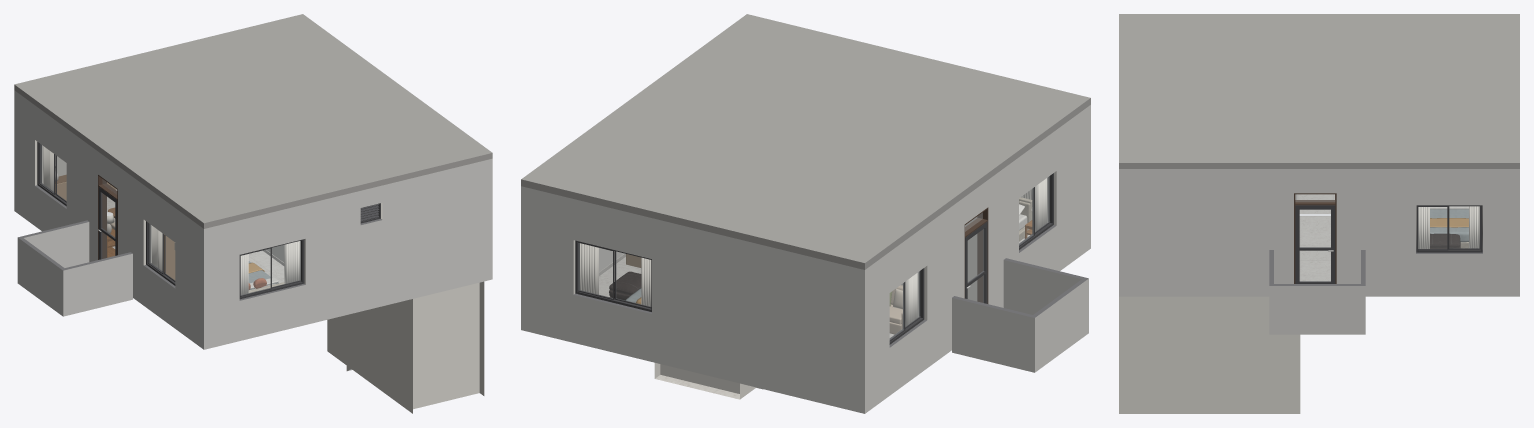
Rendered from second_floor.glb.
The picture shows the model from 3 angles, left to right: view 1: azimuth 30°, elevation 25°; view 2: azimuth 150°, elevation 25°; view 3: azimuth 270°, elevation 25°; orthographic projection. The views are drawn at different scales.
Parts seen in each view (by area): view 1: SLAB__CEILING, WALL__E03, WALL__E04, WALL__STAIRSHAFT, PARAPET__B01, SLAB__FLOOR, LEAF__D01, W03__GlassPane.002, W03__GlassPane.003, WALL__E01, FRAME__D01, FLOOR__R02 (+4 smaller); view 2: SLAB__CEILING, WALL__E01, WALL__E04, PARAPET__B01, SLAB__FLOOR, W04__GlassPane.003, LEAF__D01, W04__GlassPane.002, WALL__STAIRSHAFT, FRAME__D01, WALL__E03, BALCONY__B01 (+7 smaller); view 3: SLAB__CEILING, WALL__E02, WALL__STAIRSHAFT, PARAPET__B02, LEAF__D06, SLAB__FLOOR, FLOOR__R04, W05__GlassPane, WALL__E01, WALL__E03, W05__GlassPane.001, STAIR__UPPER_FLIGHT (+6 smaller).
Boxes of the visible parts, x1,y1,x2,y2 form: SLAB__CEILING: (14, 14, 492, 228); WALL__E03: (199, 158, 492, 343); WALL__E04: (19, 94, 199, 340); WALL__STAIRSHAFT: (327, 281, 484, 413); PARAPET__B01: (17, 220, 132, 316); SLAB__FLOOR: (14, 205, 492, 349); LEAF__D01: (98, 187, 117, 259); W03__GlassPane.002: (241, 249, 270, 295); W03__GlassPane.003: (272, 241, 300, 286); WALL__E01: (14, 90, 66, 208); FRAME__D01: (98, 175, 117, 259); FLOOR__R02: (248, 251, 284, 283); SLAB__CEILING: (521, 14, 1090, 269); WALL__E01: (521, 186, 870, 406); WALL__E04: (870, 109, 1085, 402); PARAPET__B01: (952, 258, 1088, 372); SLAB__FLOOR: (521, 242, 1090, 413); W04__GlassPane.003: (578, 243, 612, 298); LEAF__D01: (965, 221, 987, 303); W04__GlassPane.002: (616, 251, 650, 306); WALL__STAIRSHAFT: (654, 363, 755, 399); FRAME__D01: (964, 207, 988, 303); WALL__E03: (1021, 105, 1090, 245); BALCONY__B01: (952, 326, 1088, 372); SLAB__CEILING: (1119, 14, 1519, 168); WALL__E02: (1129, 169, 1509, 290); WALL__STAIRSHAFT: (1119, 296, 1300, 413); PARAPET__B02: (1269, 250, 1365, 334); LEAF__D06: (1295, 205, 1335, 283); SLAB__FLOOR: (1119, 290, 1519, 296); FLOOR__R04: (1299, 216, 1330, 281); W05__GlassPane: (1449, 206, 1479, 248); WALL__E01: (1510, 169, 1519, 290); WALL__E03: (1119, 169, 1128, 290); W05__GlassPane.001: (1418, 207, 1446, 248); STAIR__UPPER_FLIGHT: (1169, 296, 1258, 355).
Size of what is drawn, in the model's own units: 11.86 by 6.55 by 9.11.
65 materials, 30 textured.
